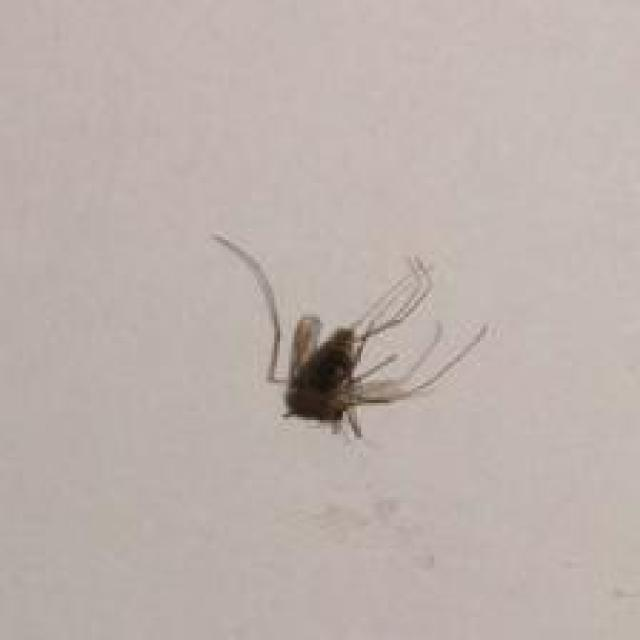Culex: (210, 230, 490, 441)
